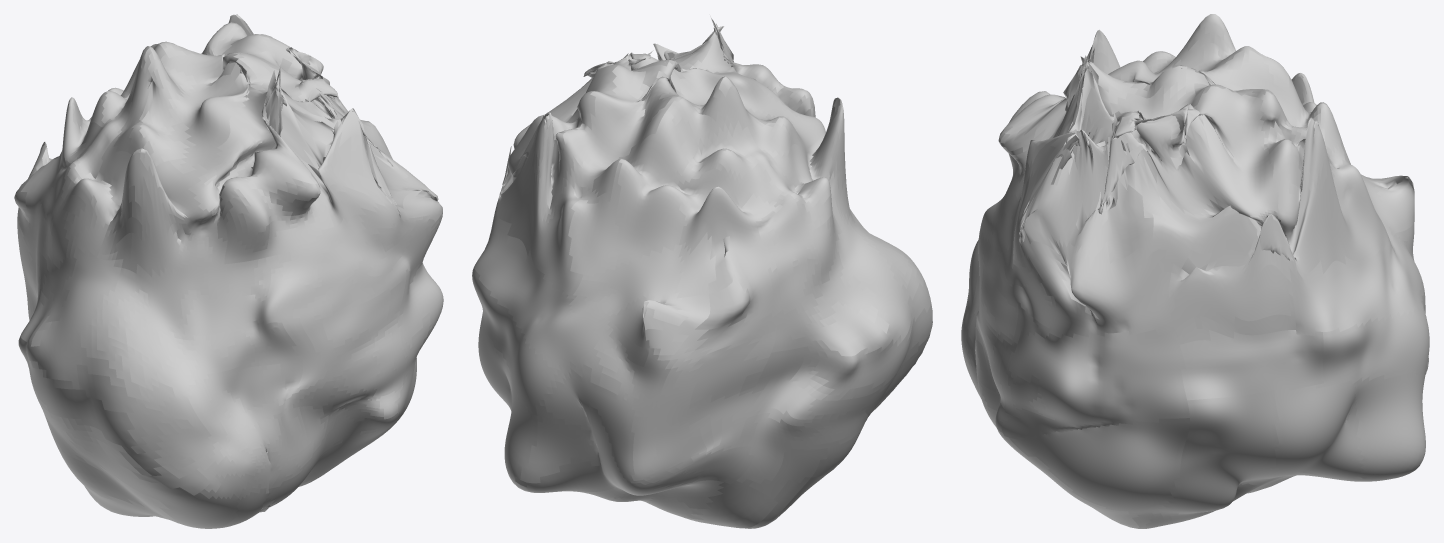
Rendered from island1WithDestructionWithDip 1.fbx.
3 views of the same model, side by side, from view 1: azimuth 30°, elevation 25°; view 2: azimuth 150°, elevation 25°; view 3: azimuth 270°, elevation 25° (orthographic). The views are drawn at different scales.
Parts seen in each view (by area): view 1: Quad Sphere; view 2: Quad Sphere; view 3: Quad Sphere.
Boxes of the visible parts, x1,y1,x2,y2 form: Quad Sphere: (14, 14, 443, 528); Quad Sphere: (472, 16, 932, 528); Quad Sphere: (961, 14, 1429, 528).
Size of the model in its own units: 303 by 349 by 308.
1 material, 1 textured.
